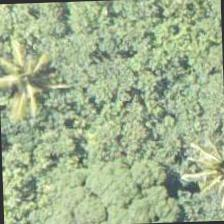Kelapa_Sawit: (0, 32, 69, 125), (176, 127, 223, 220)
